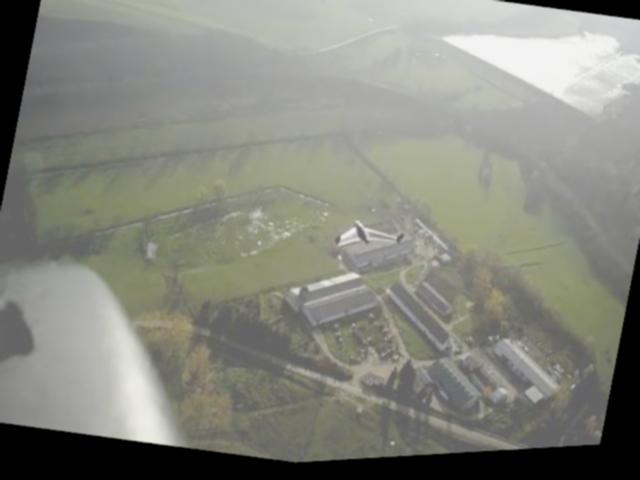iha: (334, 216, 399, 260)
